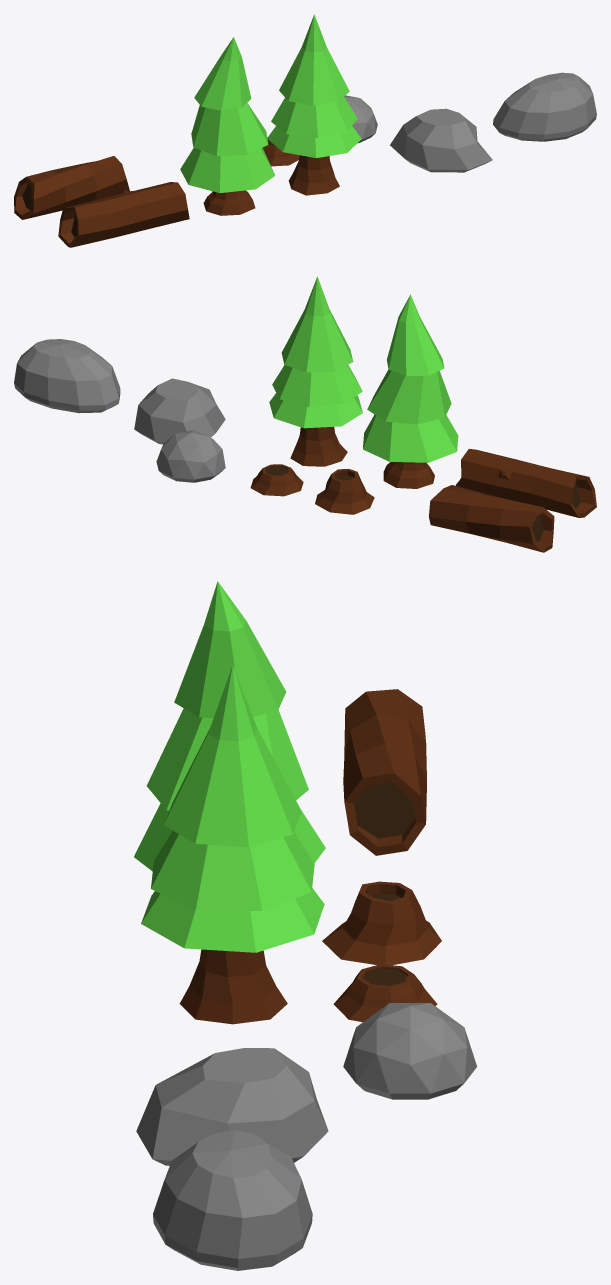
File: foliage (2).fbx
The picture shows the model from 3 angles, top to bottom: view 1: azimuth 30°, elevation 25°; view 2: azimuth 150°, elevation 25°; view 3: azimuth 270°, elevation 25°; orthographic projection. The views are drawn at different scales.
Visible parts, largest first — view 1: TREE_2, TREE_1, STONE_1, LOG_3, STONE_2, LOG_4, BUSH, LOG_1; view 2: TREE_2, TREE_1, STONE_1, LOG_3, LOG_4, STONE_2, BUSH, LOG_2, LOG_1; view 3: TREE_1, STONE_1, STONE_2, TREE_2, LOG_4, BUSH, LOG_2, LOG_1.
Boxes of the visible parts, x1,y1,x2,y2 form: TREE_2: (180, 37, 275, 215); TREE_1: (267, 14, 361, 195); STONE_1: (493, 72, 596, 141); LOG_3: (58, 182, 189, 247); STONE_2: (390, 108, 492, 172); LOG_4: (14, 156, 129, 219); BUSH: (344, 95, 377, 143); LOG_1: (263, 137, 299, 166); TREE_2: (363, 294, 458, 488); TREE_1: (269, 276, 362, 466); STONE_1: (14, 339, 120, 413); LOG_3: (455, 449, 596, 517); LOG_4: (429, 485, 554, 552); STONE_2: (134, 378, 225, 444); BUSH: (156, 430, 225, 482); LOG_2: (315, 469, 374, 514); LOG_1: (250, 464, 303, 496); TREE_1: (141, 665, 324, 1024); STONE_1: (153, 1130, 312, 1270); STONE_2: (136, 1048, 328, 1165); TREE_2: (134, 581, 325, 871); LOG_4: (343, 689, 426, 855); BUSH: (343, 1003, 477, 1099); LOG_2: (322, 881, 441, 965); LOG_1: (333, 964, 437, 1022).
Size of the model in its own units: 2966 by 927 by 820.
